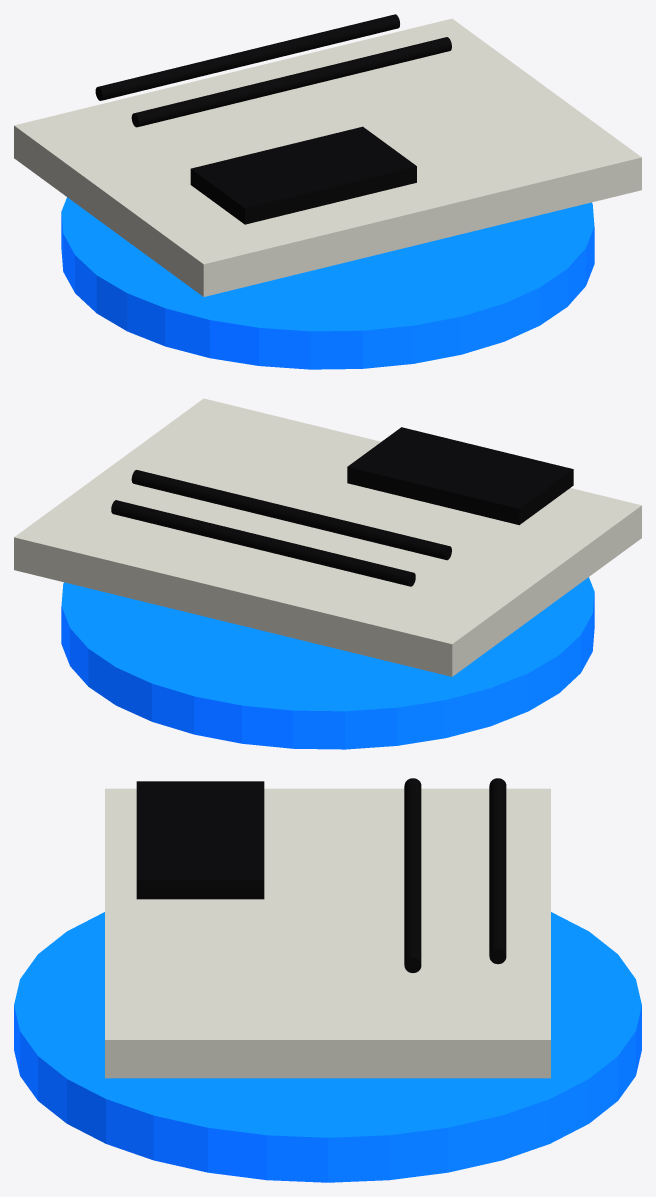
File: news_newspaper.dae
3 renders of one model, top to bottom at view 1: azimuth 30°, elevation 25°; view 2: azimuth 150°, elevation 25°; view 3: azimuth 270°, elevation 25°, orthographic. The views are drawn at different scales.
Visible parts, largest first — view 1: 09_01_Popular_News_Newspaper_part_01, 09_01_Popular_News_Newspaper_ROOT_base, 09_01_Popular_News_Newspaper_part_02, 09_01_Popular_News_Newspaper_part_03, 09_01_Popular_News_Newspaper_part_04; view 2: 09_01_Popular_News_Newspaper_part_01, 09_01_Popular_News_Newspaper_ROOT_base, 09_01_Popular_News_Newspaper_part_02, 09_01_Popular_News_Newspaper_part_03, 09_01_Popular_News_Newspaper_part_04; view 3: 09_01_Popular_News_Newspaper_part_01, 09_01_Popular_News_Newspaper_ROOT_base, 09_01_Popular_News_Newspaper_part_02, 09_01_Popular_News_Newspaper_part_03, 09_01_Popular_News_Newspaper_part_04.
Part boxes in pixels (<box>): 09_01_Popular_News_Newspaper_part_01: <box>14,18,641,296</box>; 09_01_Popular_News_Newspaper_ROOT_base: <box>61,197,594,369</box>; 09_01_Popular_News_Newspaper_part_02: <box>190,126,416,224</box>; 09_01_Popular_News_Newspaper_part_03: <box>131,37,451,127</box>; 09_01_Popular_News_Newspaper_part_04: <box>95,14,399,100</box>; 09_01_Popular_News_Newspaper_part_01: <box>14,398,641,676</box>; 09_01_Popular_News_Newspaper_ROOT_base: <box>61,577,594,749</box>; 09_01_Popular_News_Newspaper_part_02: <box>347,427,573,525</box>; 09_01_Popular_News_Newspaper_part_03: <box>131,470,451,560</box>; 09_01_Popular_News_Newspaper_part_04: <box>111,500,415,586</box>; 09_01_Popular_News_Newspaper_part_01: <box>105,788,550,1078</box>; 09_01_Popular_News_Newspaper_ROOT_base: <box>14,912,641,1182</box>; 09_01_Popular_News_Newspaper_part_02: <box>136,781,264,899</box>; 09_01_Popular_News_Newspaper_part_03: <box>404,778,421,972</box>; 09_01_Popular_News_Newspaper_part_04: <box>489,778,506,964</box>.
Bounding box in the file's own units: 0.76 × 0.2431 × 0.76.
